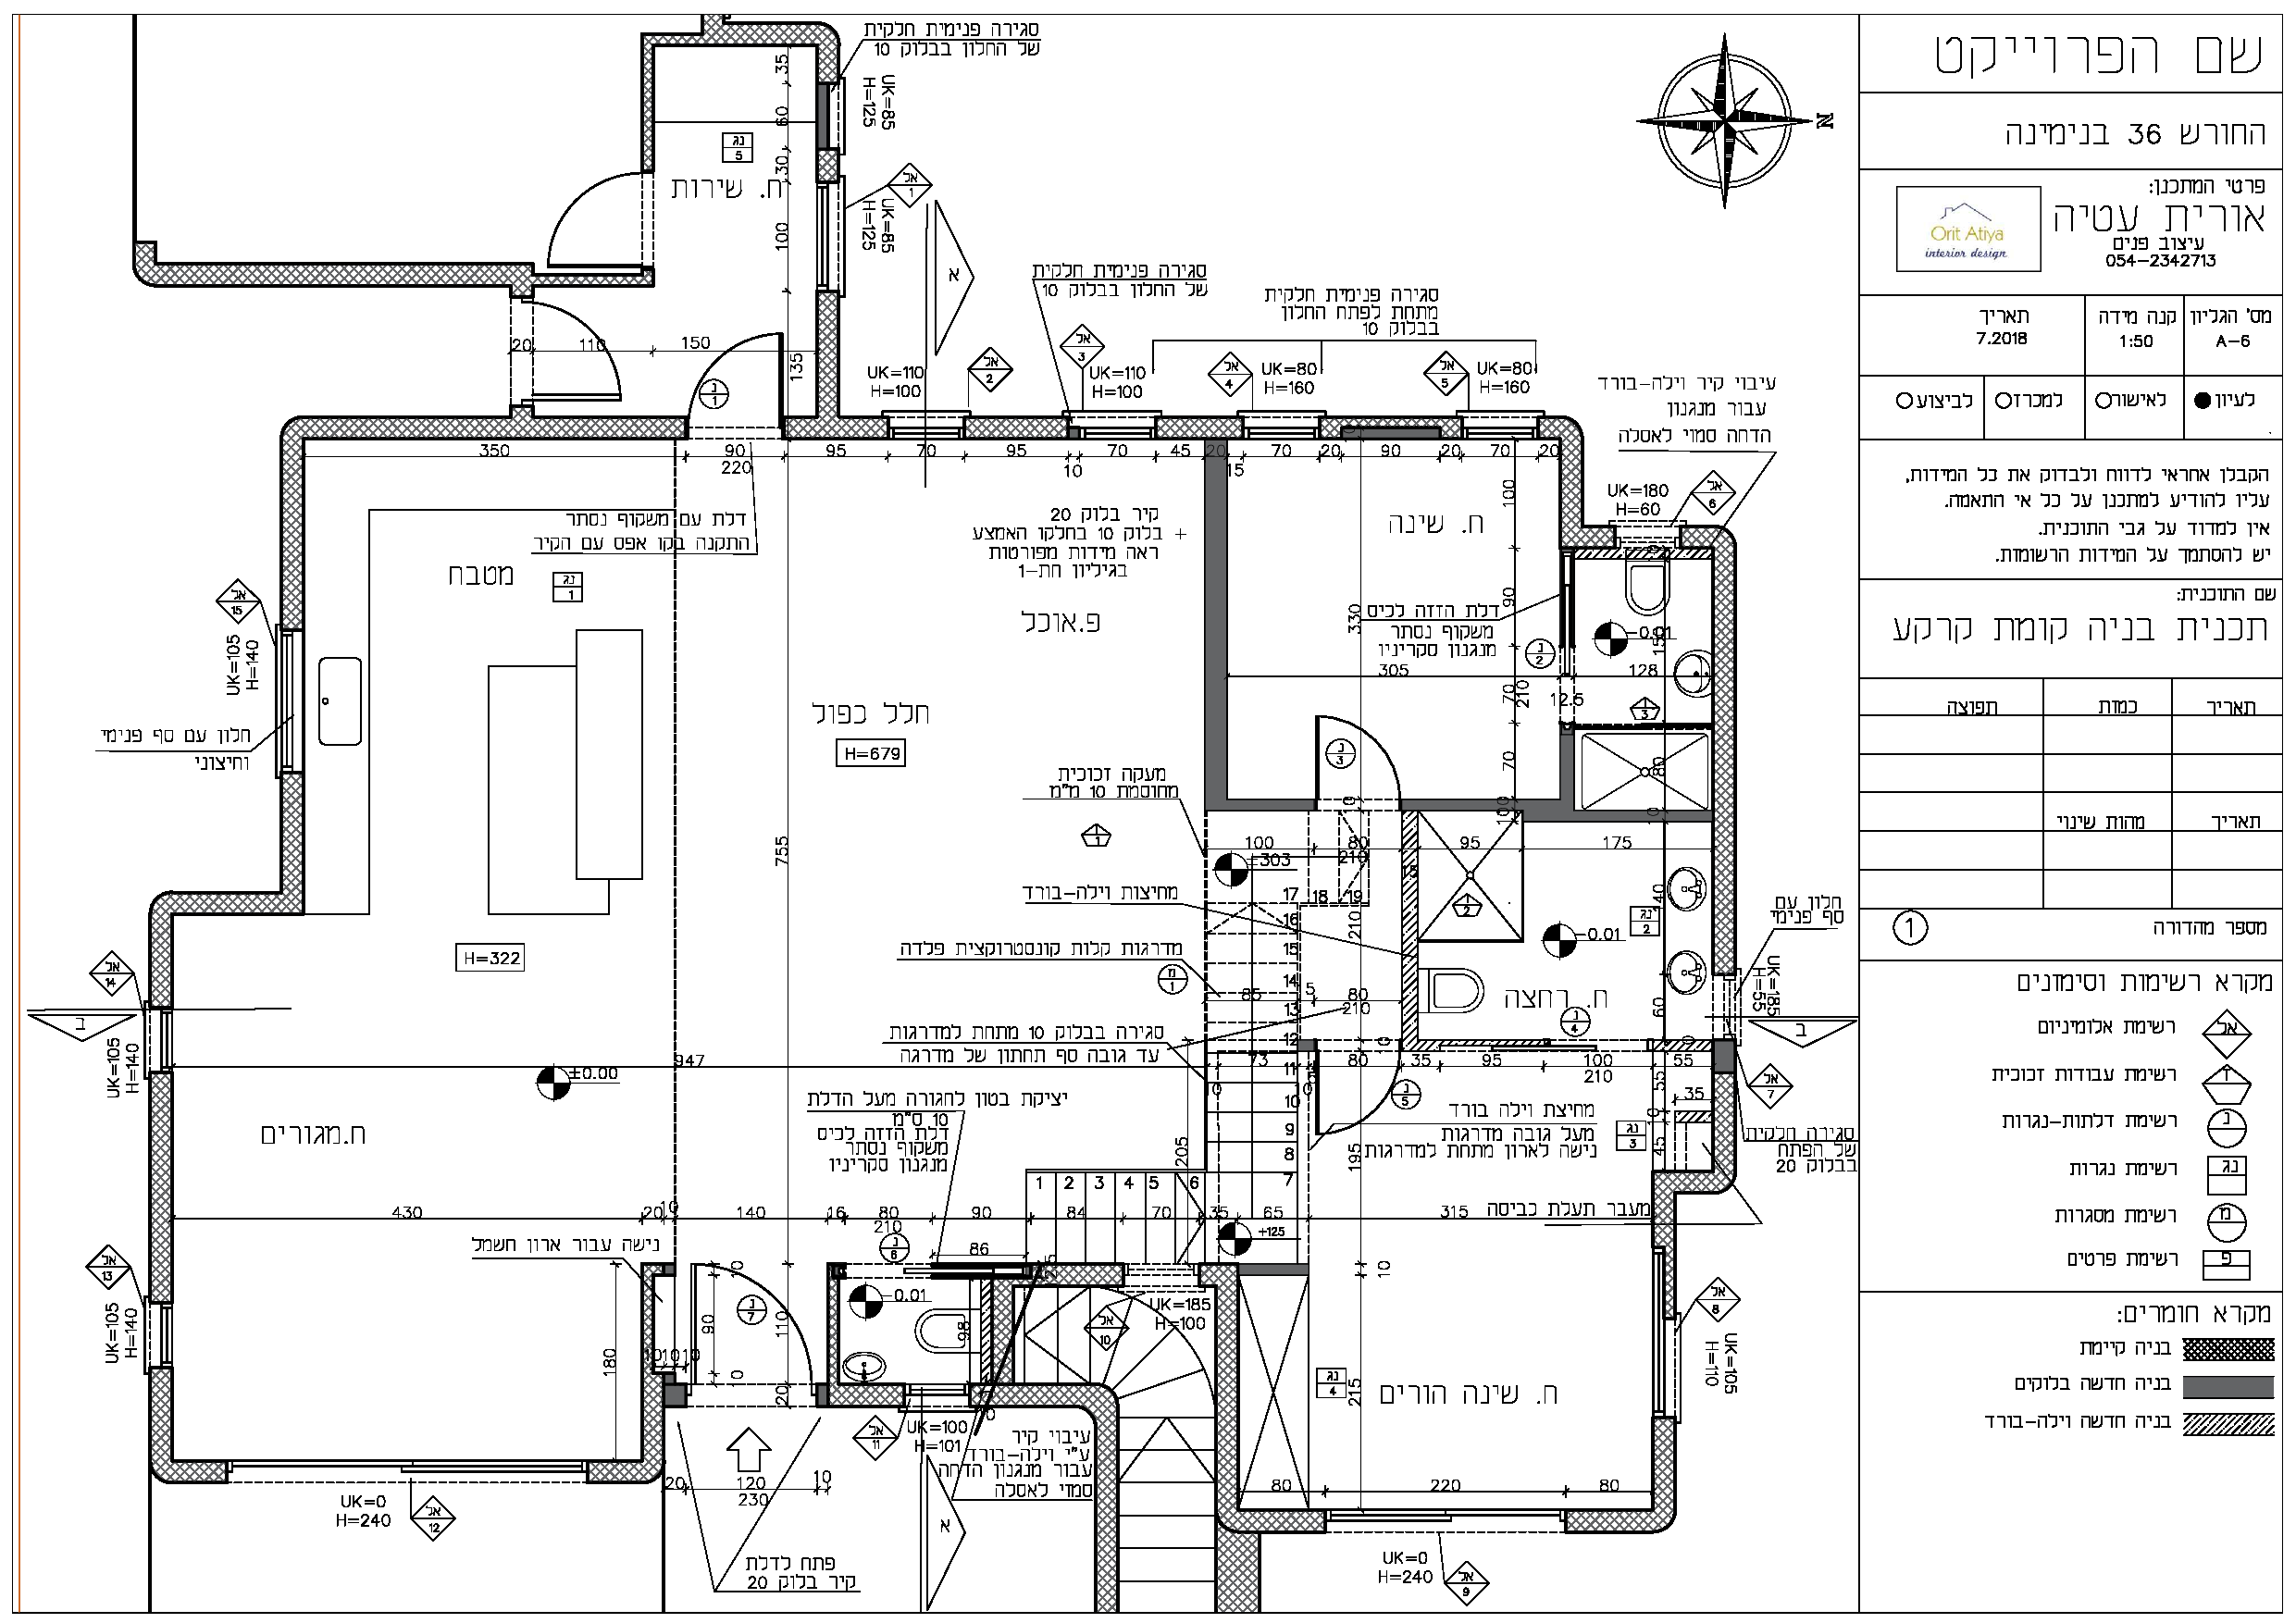door: (536, 163, 634, 267), (546, 299, 638, 408), (1312, 1078, 1393, 1142)
wall: (1715, 530, 1734, 968), (158, 262, 520, 285), (1207, 472, 1224, 797), (314, 422, 671, 437), (1094, 1396, 1119, 1607), (1219, 1273, 1238, 1525), (283, 785, 302, 910), (285, 441, 297, 608)
window: (223, 1453, 590, 1493), (1325, 1502, 1565, 1542), (267, 625, 316, 778), (1065, 404, 1159, 446), (884, 404, 970, 446), (1237, 404, 1325, 444), (139, 1006, 181, 1078), (1460, 409, 1539, 446), (141, 1300, 177, 1368)
